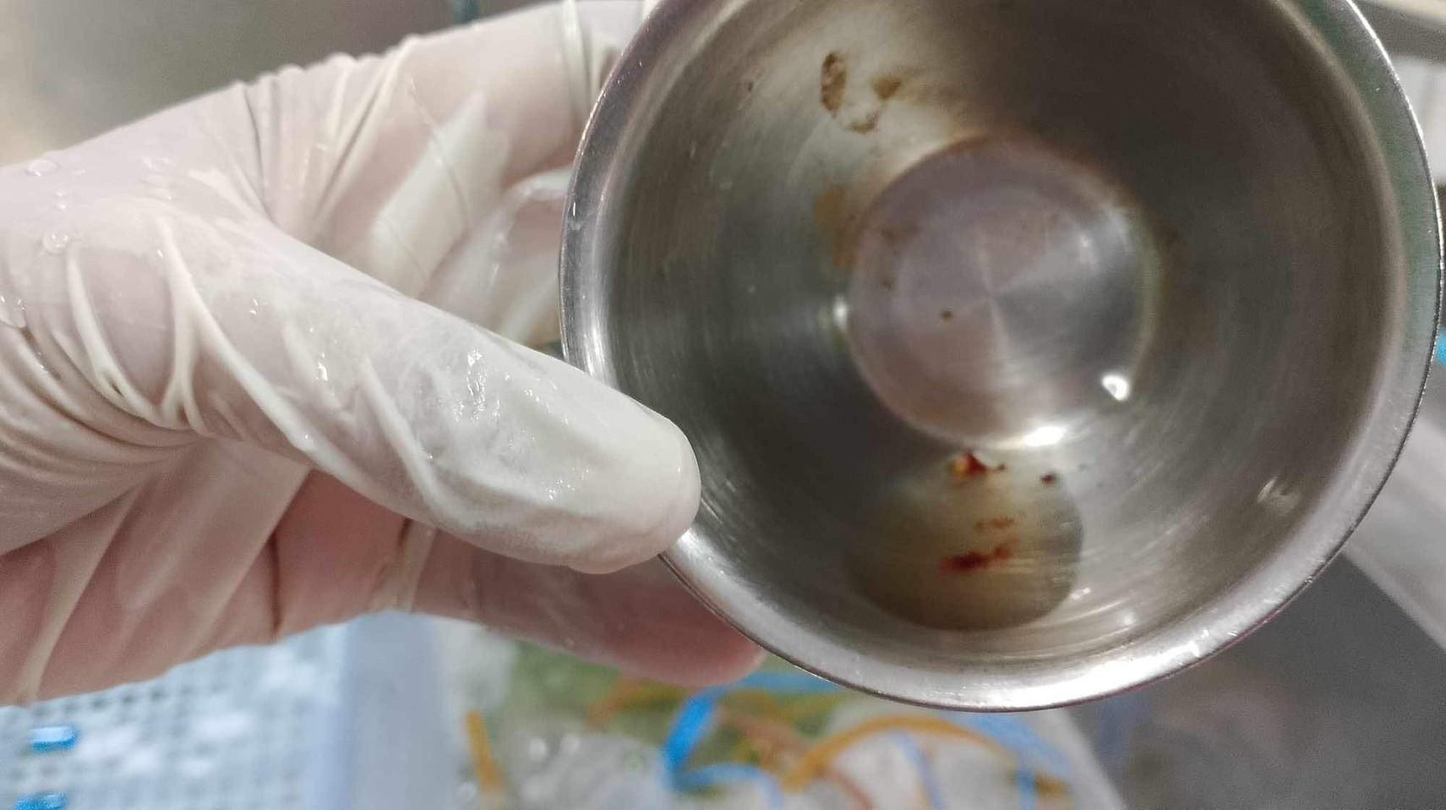General: (552, 2, 1441, 715), (3, 610, 1127, 807)
Infectious: (0, 0, 768, 707)
